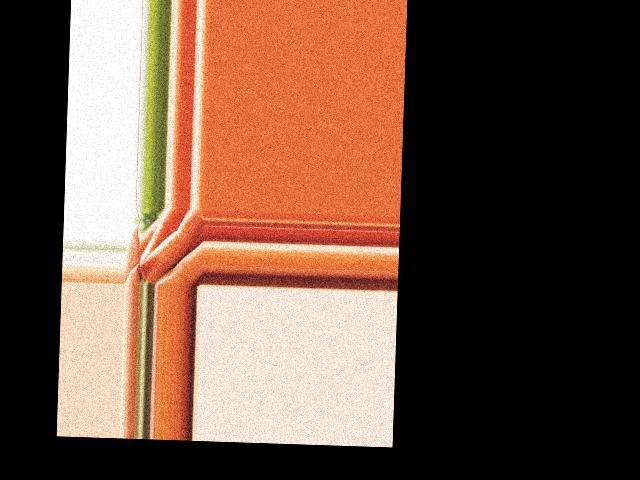carrot: (135, 214, 179, 267)
